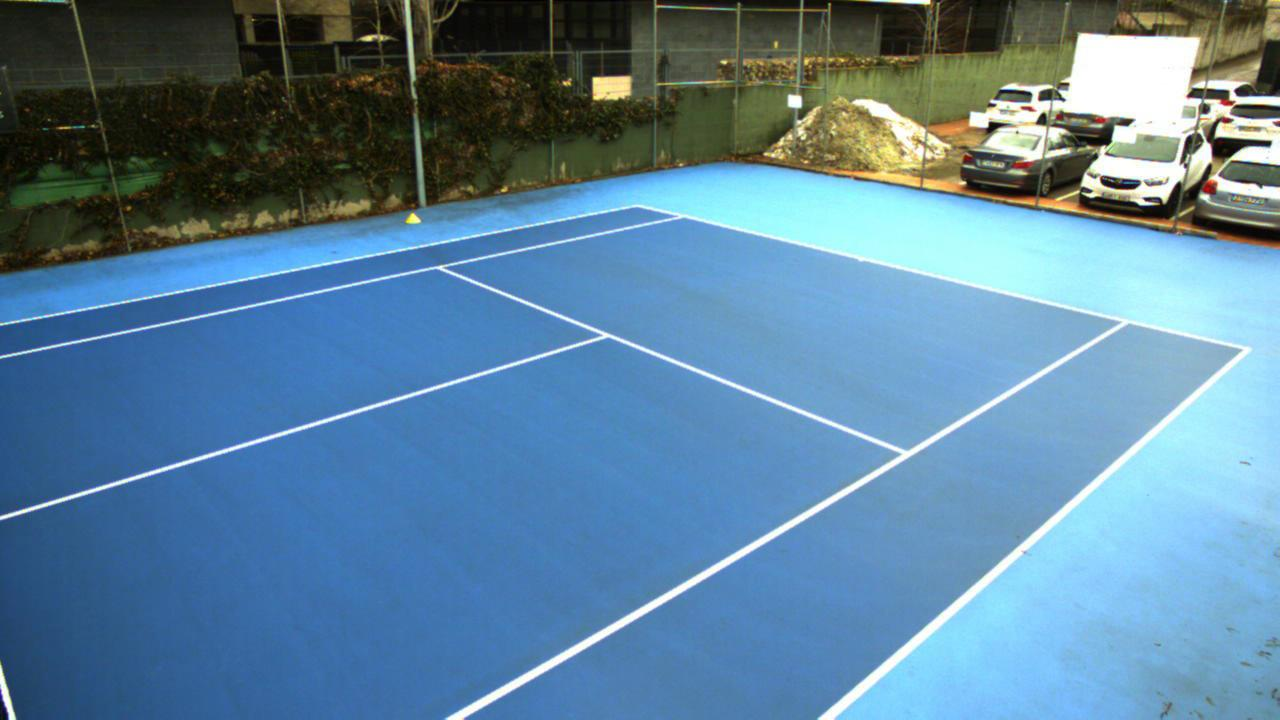cancha_tenis: (0, 216, 1130, 720)
point_f1: (665, 203, 692, 229)
point_f2: (1112, 308, 1138, 335)
point_fc1: (850, 248, 869, 270)
point_i1: (428, 254, 454, 280)
point_i2: (886, 441, 920, 471)
point_ic1: (589, 322, 621, 348)
